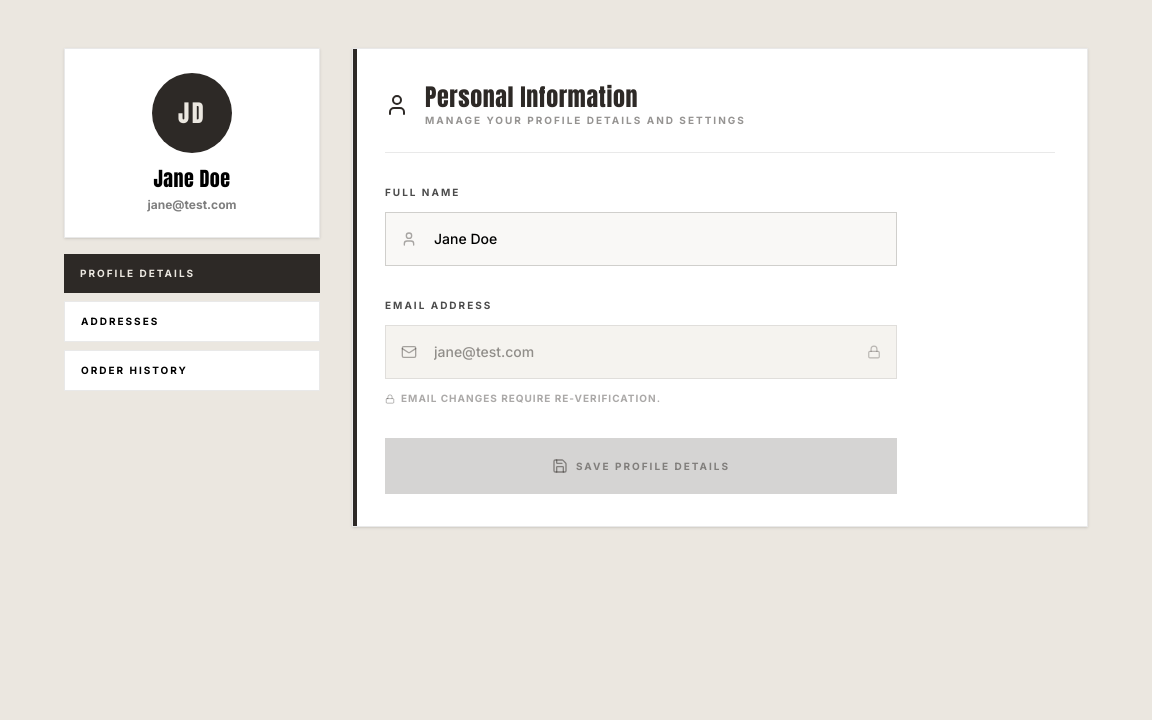
Test: Profile › shows Add New button and form on Addresses tab
Click the button "Addresses". click: (192, 322)
box: [64,301,320,342]
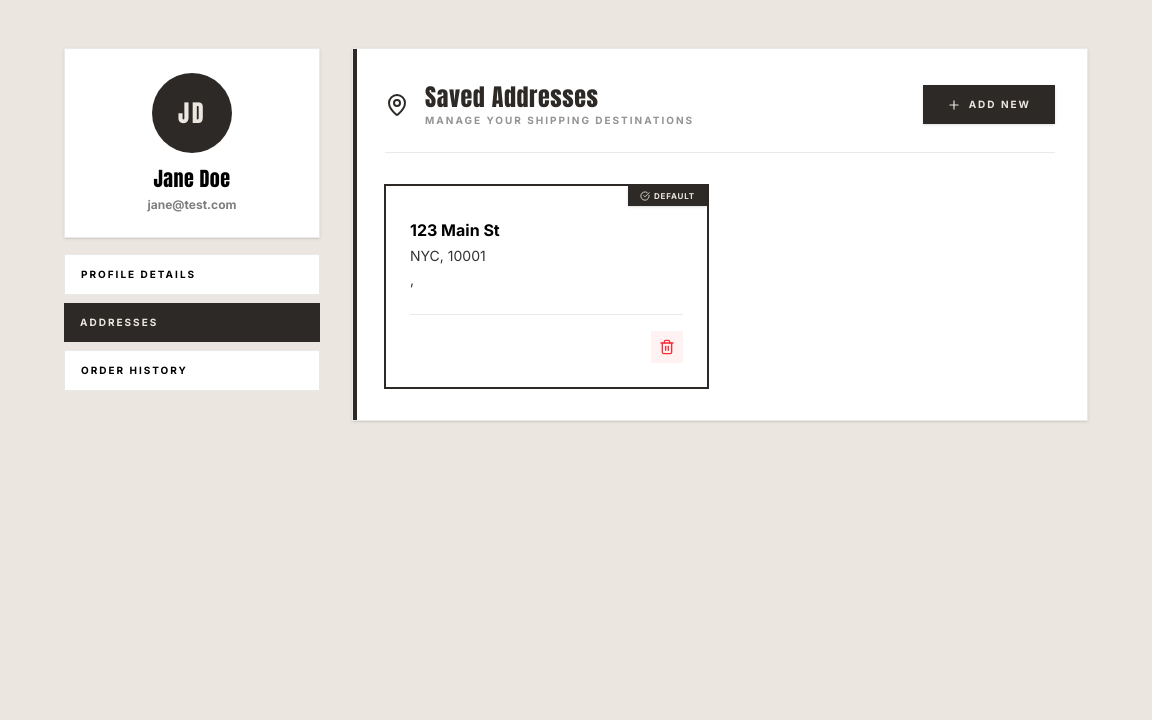
Click the button "Add New". click: (989, 104)
box: [923,85,1055,124]
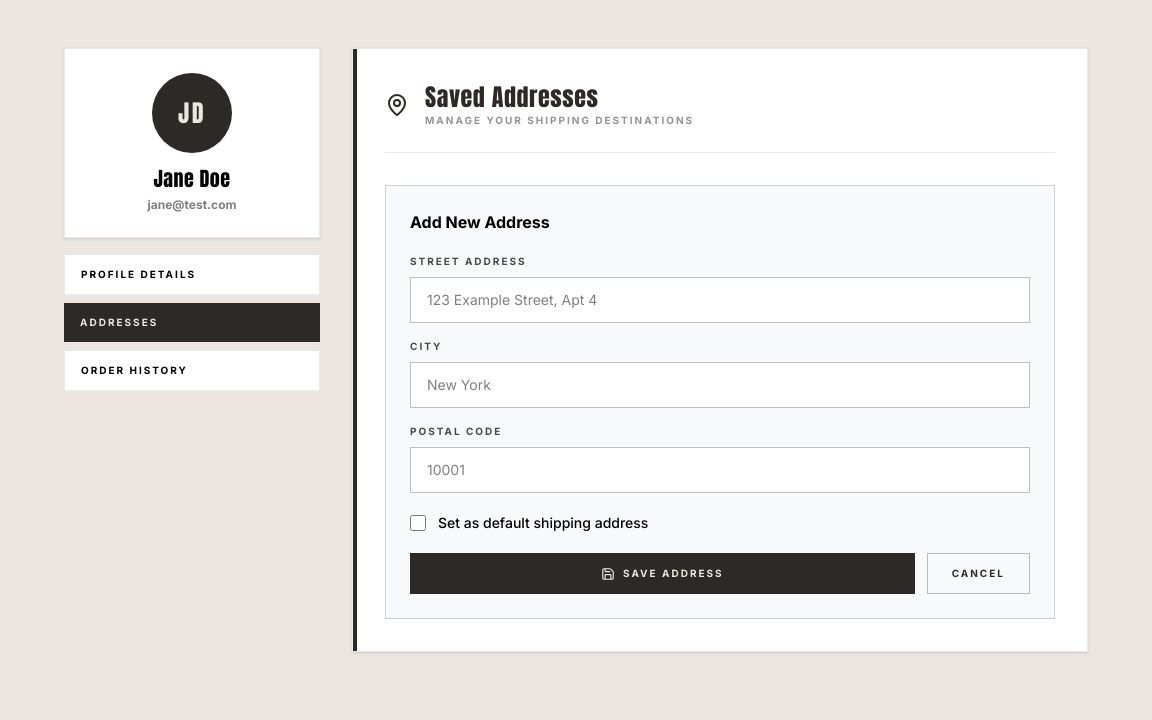
Check: the field with placeholder "123 Example Street, Apt 4" is shown, box [410,277,1030,323]
Check: the field with placeholder "New York" is shown, box [410,362,1030,408]
Check: the field with placeholder "10001" is shown, box [410,447,1030,493]
